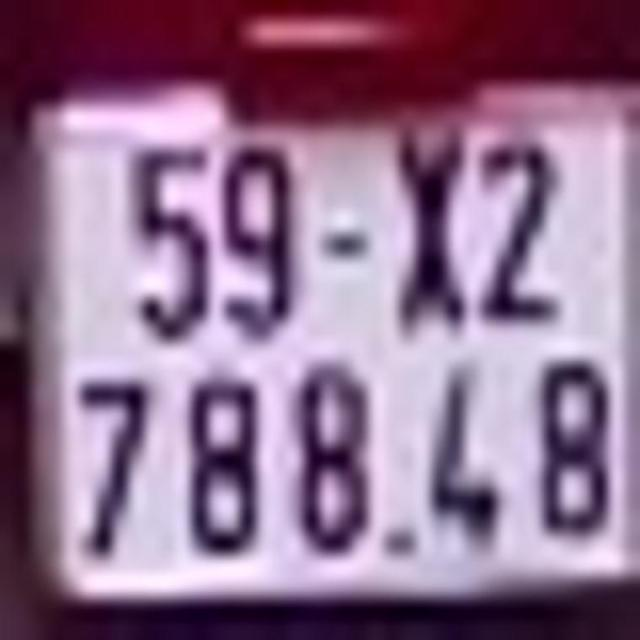2: (485, 133, 560, 314)
4: (431, 355, 499, 551)
5: (138, 146, 212, 335)
7: (76, 370, 146, 560)
8: (301, 365, 373, 554), (192, 367, 254, 552), (542, 354, 606, 533)
9: (226, 145, 290, 338)
X: (392, 118, 468, 320)
